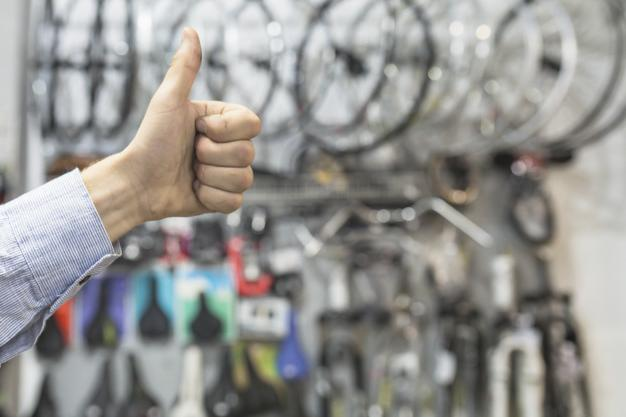thumbsup: (166, 26, 262, 215)
